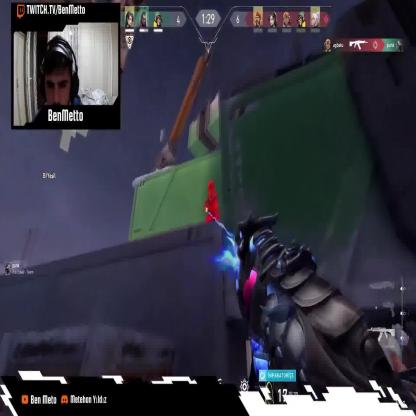enemy: (204, 179, 220, 230)
enemy_head: (207, 181, 214, 195)
